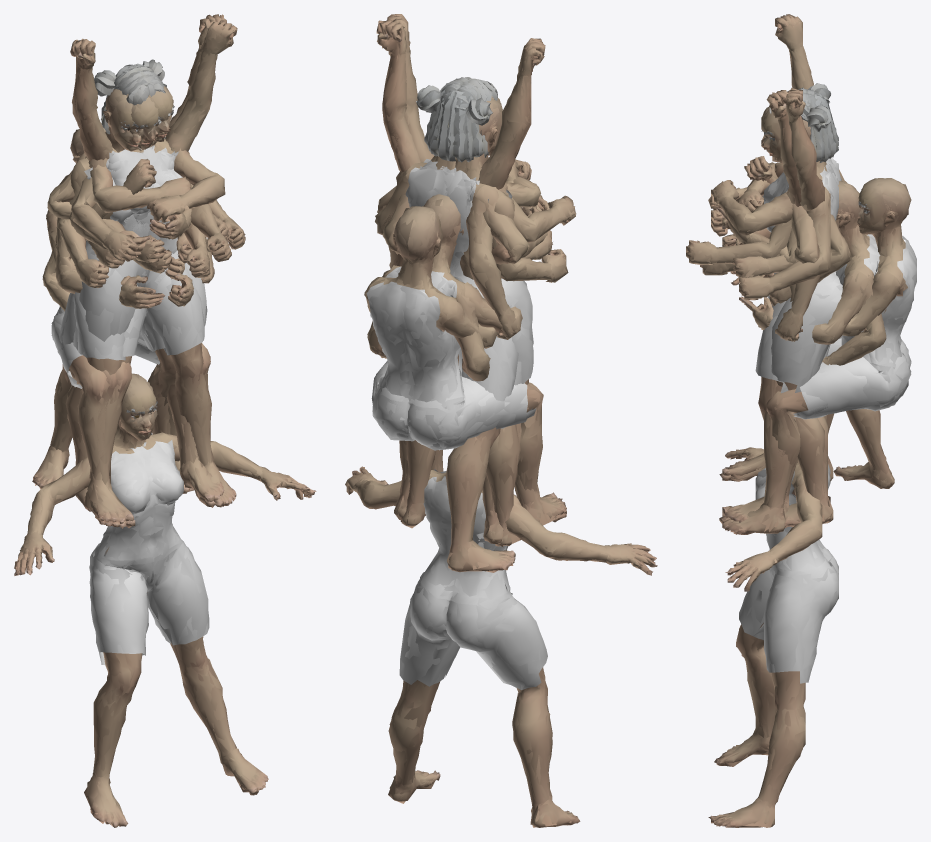
File: people_F.glb
3 renders of one model, left to right at view 1: azimuth 30°, elevation 25°; view 2: azimuth 150°, elevation 25°; view 3: azimuth 270°, elevation 25°, orthographic. The views are drawn at different scales.
Parts seen in each view (by area): view 1: F_swim, F_swim_shorts, F_swim_lo, F_swim_mid, F_swim_top, F_swim_top_lo, F_drive, F_talk, F_hug, F_swim_shorts_lo, F_dance_a, F_talk_mid (+42 smaller); view 2: F_swim_shorts, F_swim, F_swim_lo, F_swim_mid, F_drive_top, F_drive_top_lo, F_up, F_swim_shorts_lo, F_drive, F_up_mid, F_swim_top, F_dance_a_mid (+47 smaller); view 3: F_swim, F_swim_shorts, F_swim_mid, F_swim_lo, F_drive, F_drive_mid, F_dance_c, F_drive_lo, F_count, F_drive_shorts, F_dance_c_shorts, F_up (+47 smaller).
Part boxes in pixels (x1,y1,x2,y2): F_swim: (14,373,314,827); F_swim_shorts: (89,540,209,664); F_swim_lo: (15,374,315,825); F_swim_mid: (15,374,316,826); F_swim_top: (94,440,183,575); F_swim_top_lo: (94,433,183,576); F_drive: (46,128,214,528); F_talk: (37,102,229,504); F_hug: (90,141,225,222); F_swim_shorts_lo: (90,542,208,664); F_dance_a: (67,88,194,511); F_talk_mid: (36,102,233,501); F_swim_shorts: (400,572,547,689); F_swim: (346,467,657,827); F_swim_lo: (347,466,655,827); F_swim_mid: (345,469,653,826); F_drive_top: (368,281,456,407); F_drive_top_lo: (366,276,463,408); F_up: (376,19,545,186); F_swim_shorts_lo: (399,573,541,690); F_drive: (366,206,566,522); F_up_mid: (376,20,545,539); F_swim_top: (419,471,510,608); F_dance_a_mid: (383,155,575,546); F_swim: (711,448,822,827); F_swim_shorts: (739,549,838,682); F_swim_mid: (711,448,822,827); F_swim_lo: (708,447,822,827); F_drive: (722,178,910,489); F_drive_mid: (722,178,911,516); F_dance_c: (739,123,830,520); F_drive_lo: (719,178,911,514); F_count: (700,106,894,534); F_drive_shorts: (794,364,905,419); F_dance_c_shorts: (771,286,842,384); F_up: (775,14,824,211).
Bounding box in the file's own units: 1.3 × 3.22 × 0.904.
